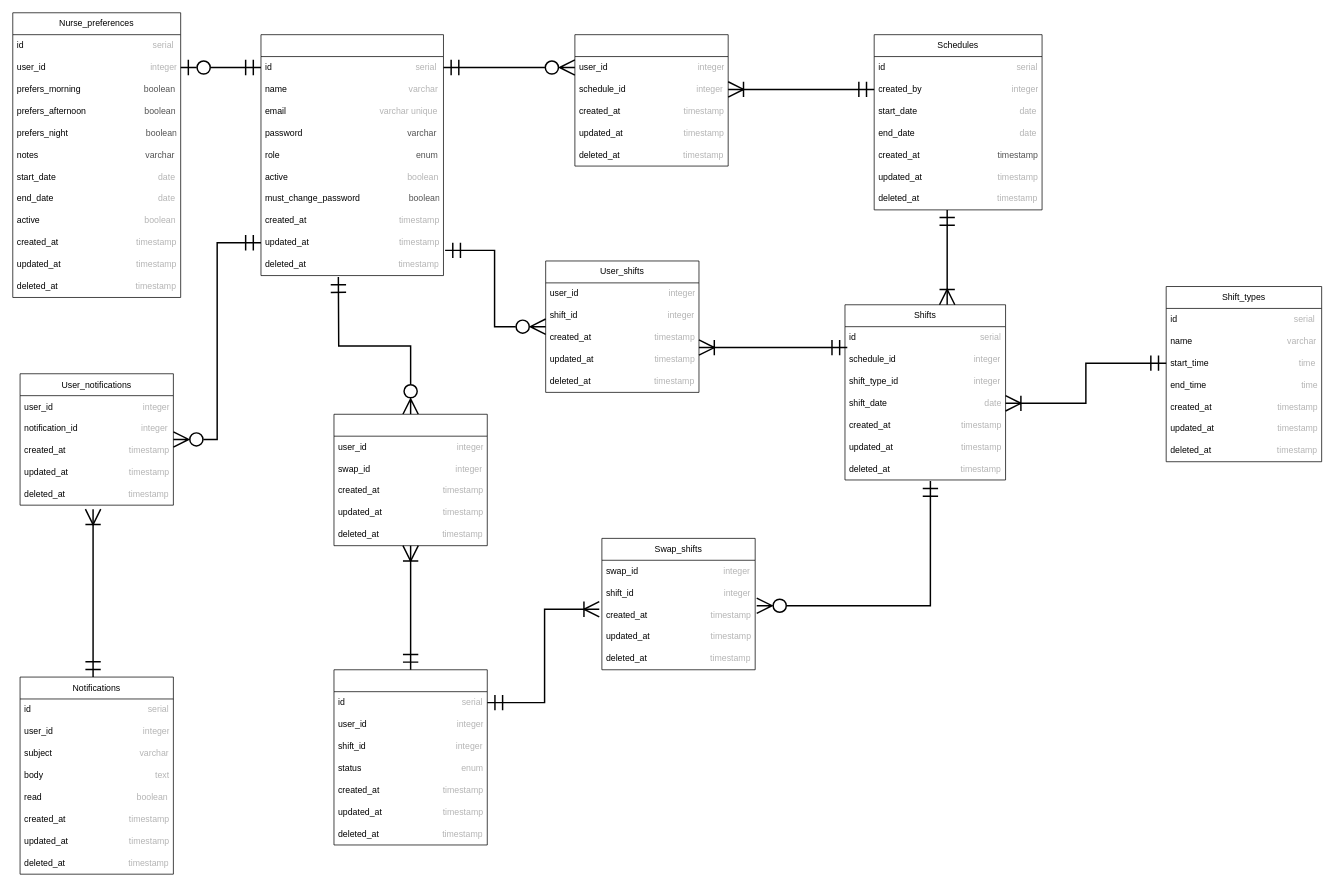
This 1334x887 diagram has some shape labels left out. Each missing label, with the box of its shape:
Shift_swap_requests: (333, 669, 487, 845)
User_schedules: (574, 34, 728, 166)
User_swaps: (333, 414, 487, 546)
Users: (260, 34, 443, 276)
